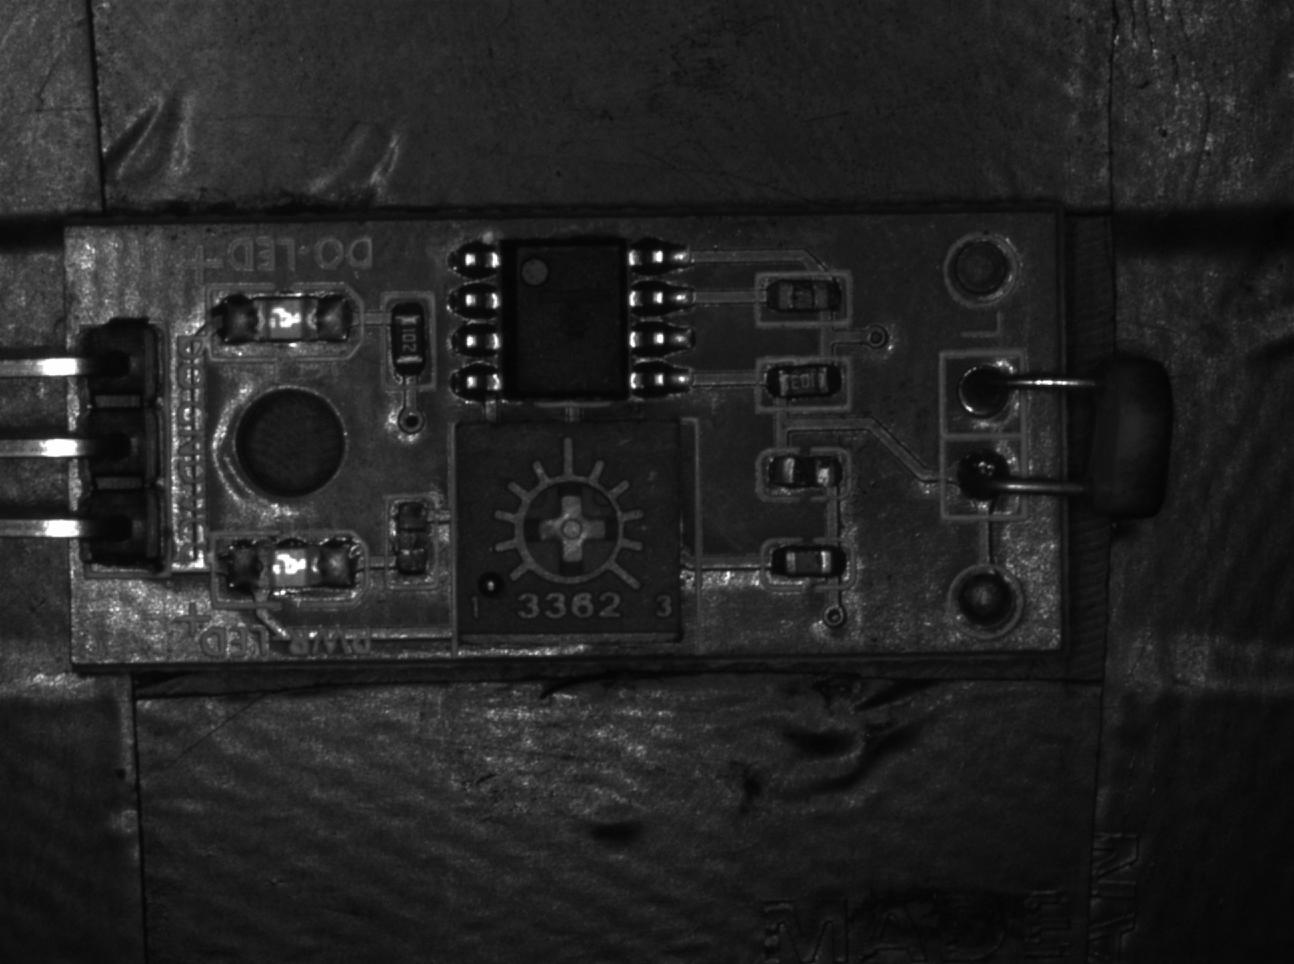miss: (386, 488, 438, 589), (758, 273, 855, 325), (756, 453, 854, 501)
ok: (754, 355, 856, 411), (758, 541, 860, 588), (383, 291, 433, 381)
